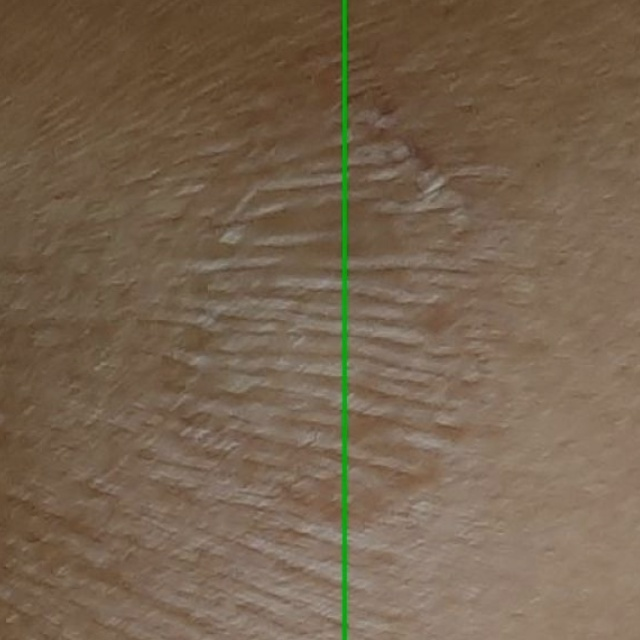Tinea Corporis: (343, 0, 639, 639)
